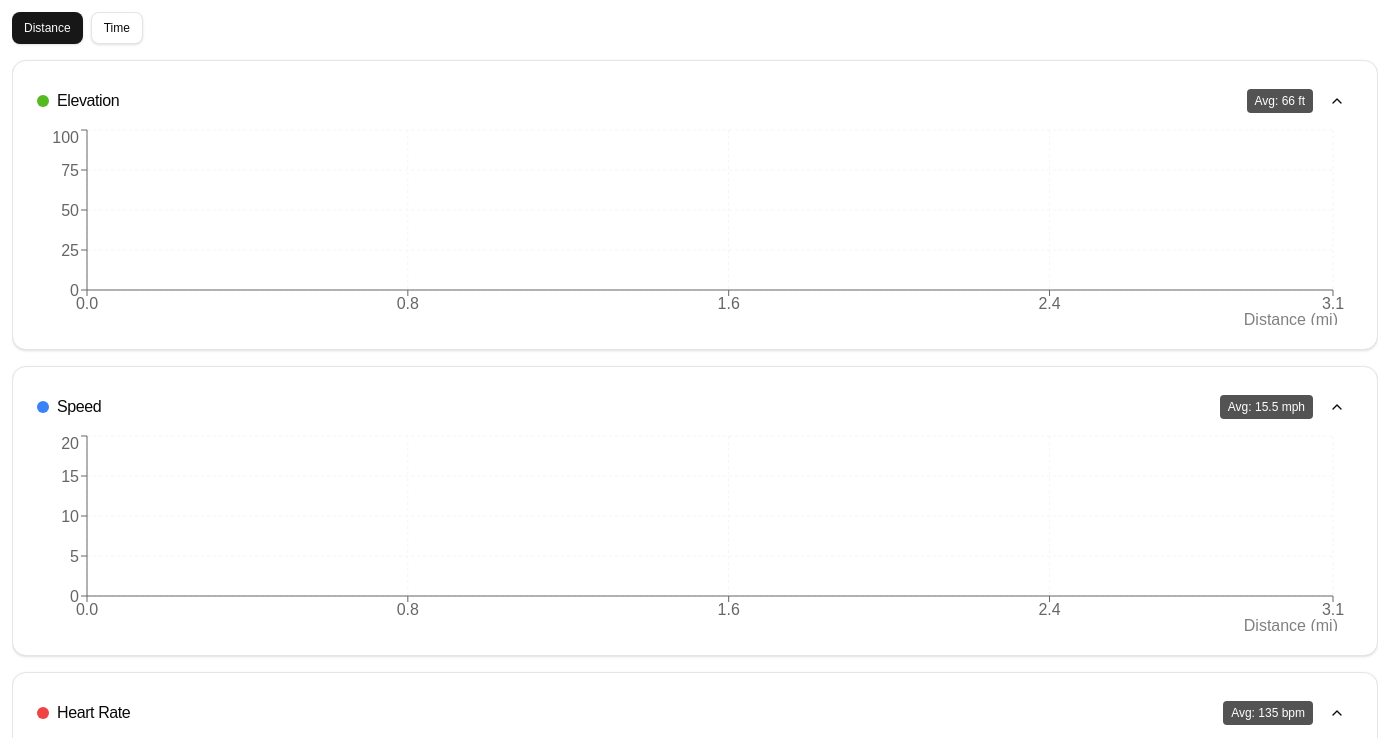
Scenario: ActivityCharts › minimizes and restores each chart independently while keeping its header
The width and height of the screenshot is (1378, 738).
expect the element with id "chart-content-elevation" is shown: met, box top-left (13, 125), bottom-right (1377, 349)
expect the element with id "chart-content-speed" is shown: met, box top-left (13, 431), bottom-right (1377, 655)
Click the button named "Minimize Elevation graph" at (1337, 101), box top-left (1321, 85), bottom-right (1353, 117)
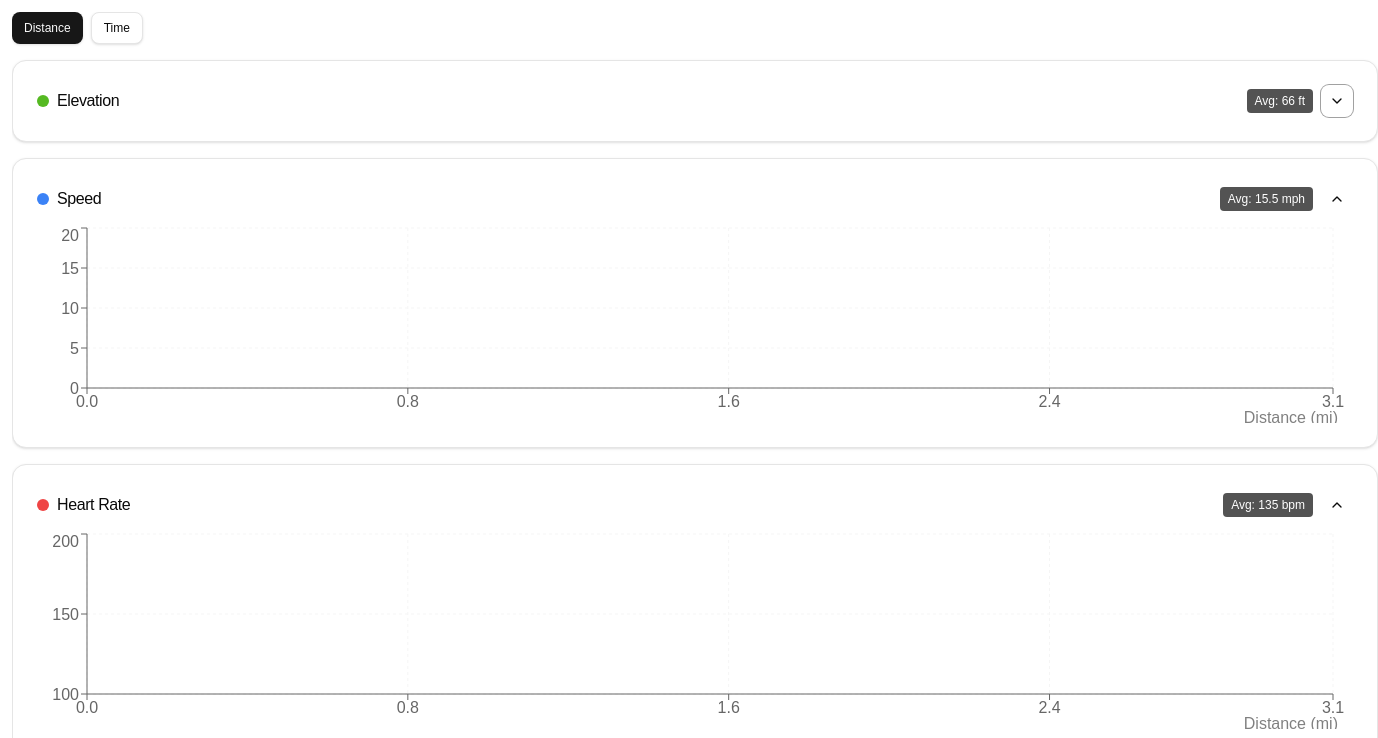
expect the element with id "chart-content-speed" is shown: met, box top-left (13, 223), bottom-right (1377, 447)
expect the button named "Expand Elevation graph" is collapsed: met
expect the element with id "chart-content-elevation" is gone: met
Click the button named "Expand Elevation graph" at (1337, 101), box top-left (1321, 85), bottom-right (1353, 117)
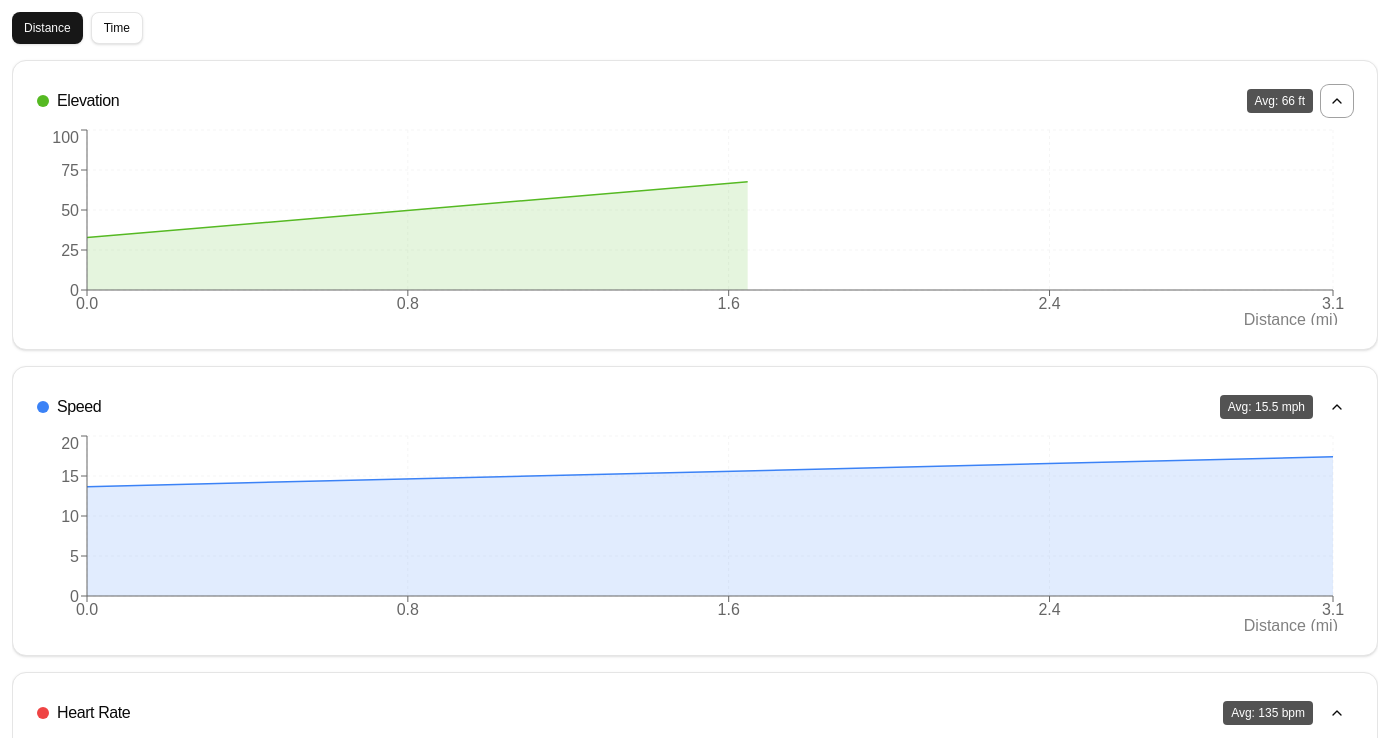
expect the button named "Minimize Elevation graph" is expanded: met, box top-left (1321, 85), bottom-right (1353, 117)
expect the element with id "chart-content-elevation" is shown: met, box top-left (13, 125), bottom-right (1377, 349)
